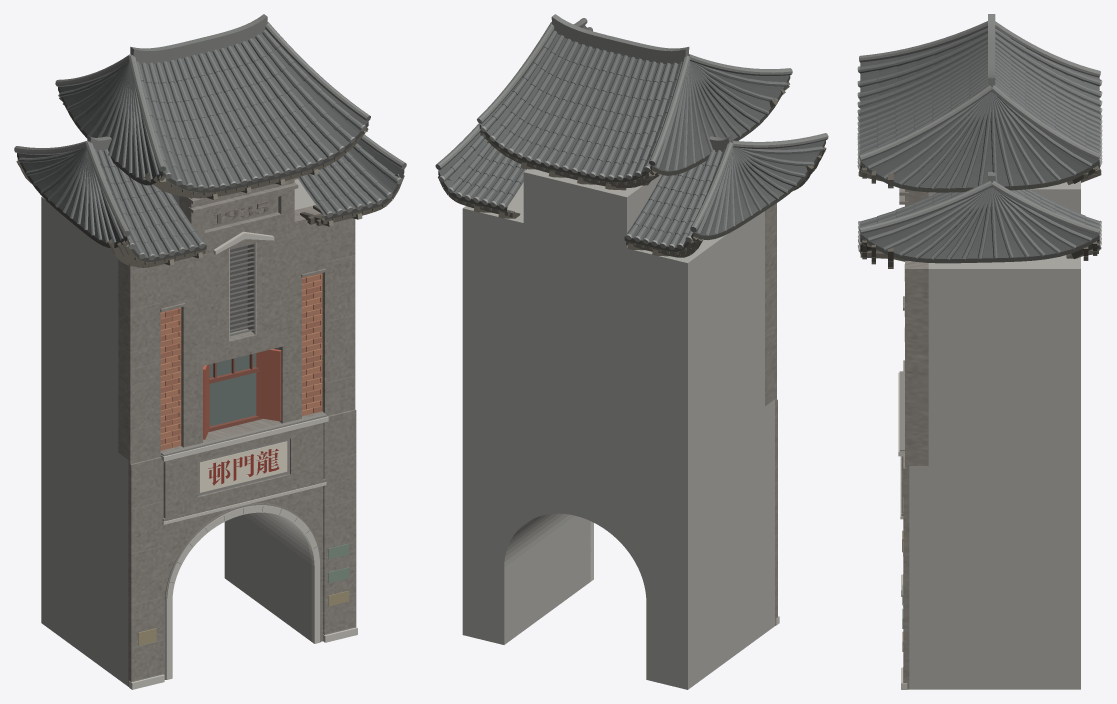
The model's file is huangpu-longmen-village-gatehouse-raw.glb.
3 views of the same model, side by side, from view 1: azimuth 30°, elevation 25°; view 2: azimuth 150°, elevation 25°; view 3: azimuth 270°, elevation 25° (orthographic).
Parts seen in each view (by area): view 1: 龙门邨尚文路总弄过街楼; view 2: 龙门邨尚文路总弄过街楼; view 3: 龙门邨尚文路总弄过街楼.
Part boxes in pixels (box(x1,y1,x2,y2)): 龙门邨尚文路总弄过街楼: box(14, 14, 406, 689); 龙门邨尚文路总弄过街楼: box(435, 14, 828, 689); 龙门邨尚文路总弄过街楼: box(857, 14, 1102, 689).
Bounding box in the file's own units: 7.62 × 15.35 × 5.78.
25 materials, 1 textured.
